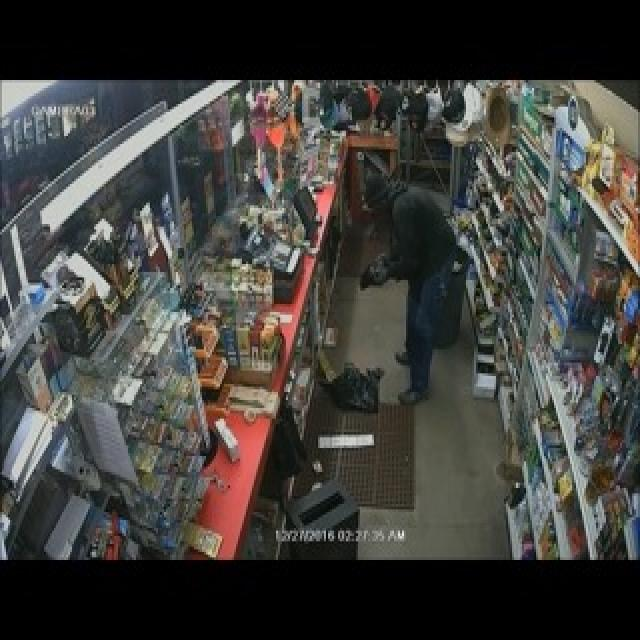thief: (355, 168, 455, 348)
